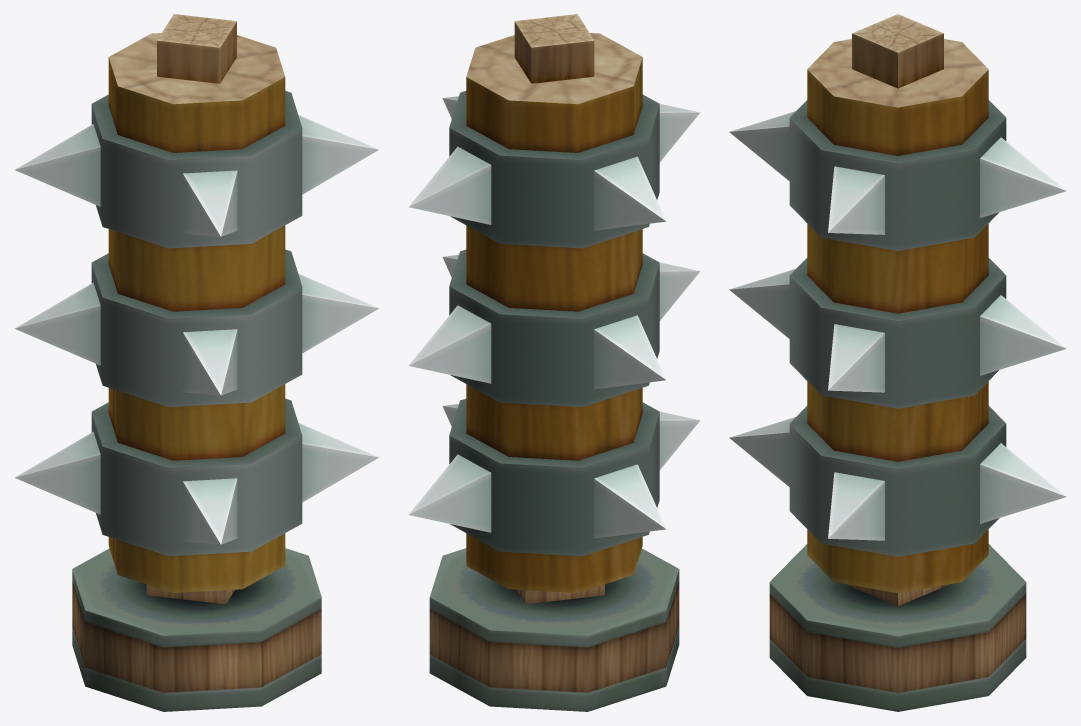
File: Trap03.FBX
3 renders of one model, left to right at view 1: azimuth 30°, elevation 25°; view 2: azimuth 150°, elevation 25°; view 3: azimuth 270°, elevation 25°, orthographic.
Parts seen in each view (by area): view 1: Trap03, TrapBar; view 2: Trap03, TrapBar; view 3: Trap03, TrapBar.
Boxes of the visible parts, x1,y1,x2,y2 form: Trap03: (15,14,378,604); TrapBar: (72,548,321,711); Trap03: (408,14,700,604); TrapBar: (429,548,679,711); Trap03: (729,14,1066,606); TrapBar: (769,544,1026,711).
Bounding box in the file's own units: 140 × 286 × 140.
